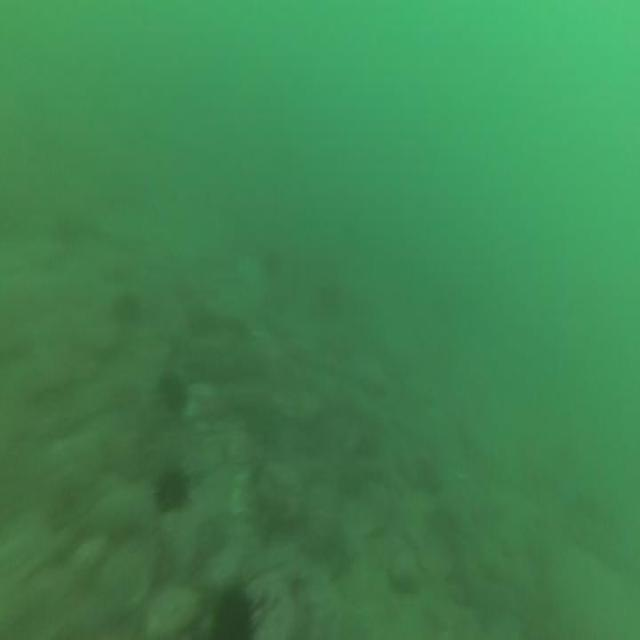echinus: (206, 586, 258, 640), (152, 460, 191, 517), (160, 375, 189, 417), (112, 291, 143, 330), (260, 247, 284, 278)
